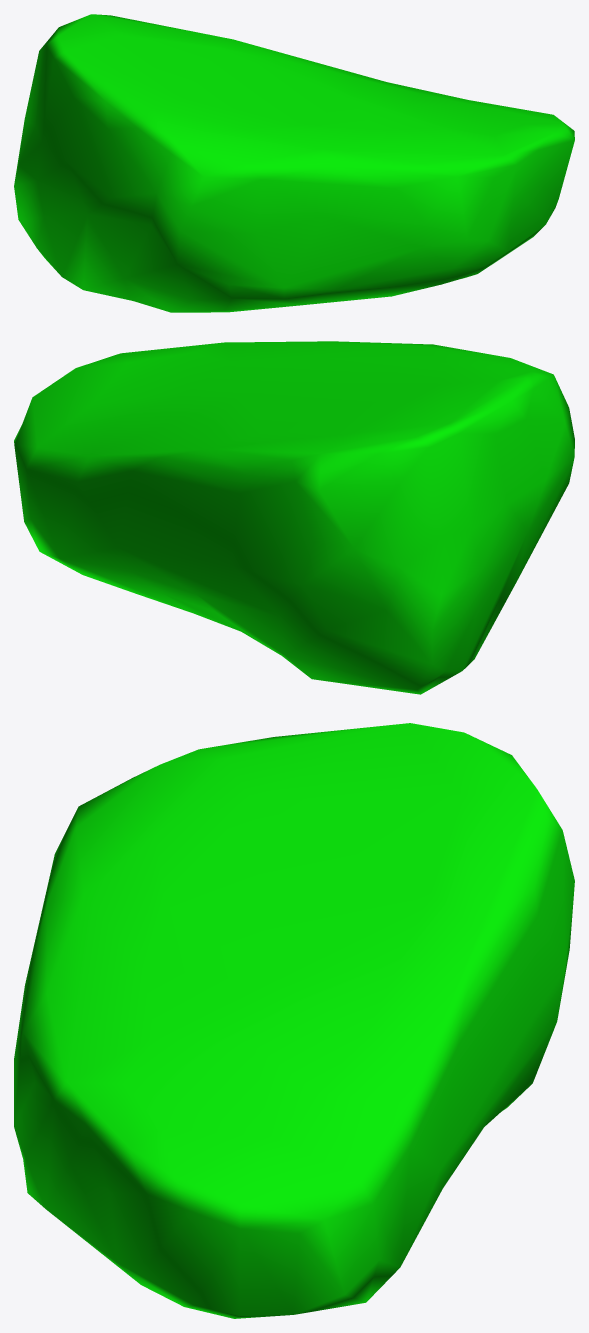
Rendered from Rock2_L.fbx.
3 renders of one model, top to bottom at view 1: azimuth 30°, elevation 25°; view 2: azimuth 150°, elevation 25°; view 3: azimuth 270°, elevation 25°, orthographic. The views are drawn at different scales.
Parts seen in each view (by area): view 1: Rock2_TEST_L; view 2: Rock2_TEST_L; view 3: Rock2_TEST_L.
Part boxes in pixels (bbox=[...]): Rock2_TEST_L: bbox=[14, 14, 574, 312]; Rock2_TEST_L: bbox=[14, 341, 574, 694]; Rock2_TEST_L: bbox=[14, 723, 574, 1318].
Size of the model in its own units: 5.51 by 2.65 by 4.03.
